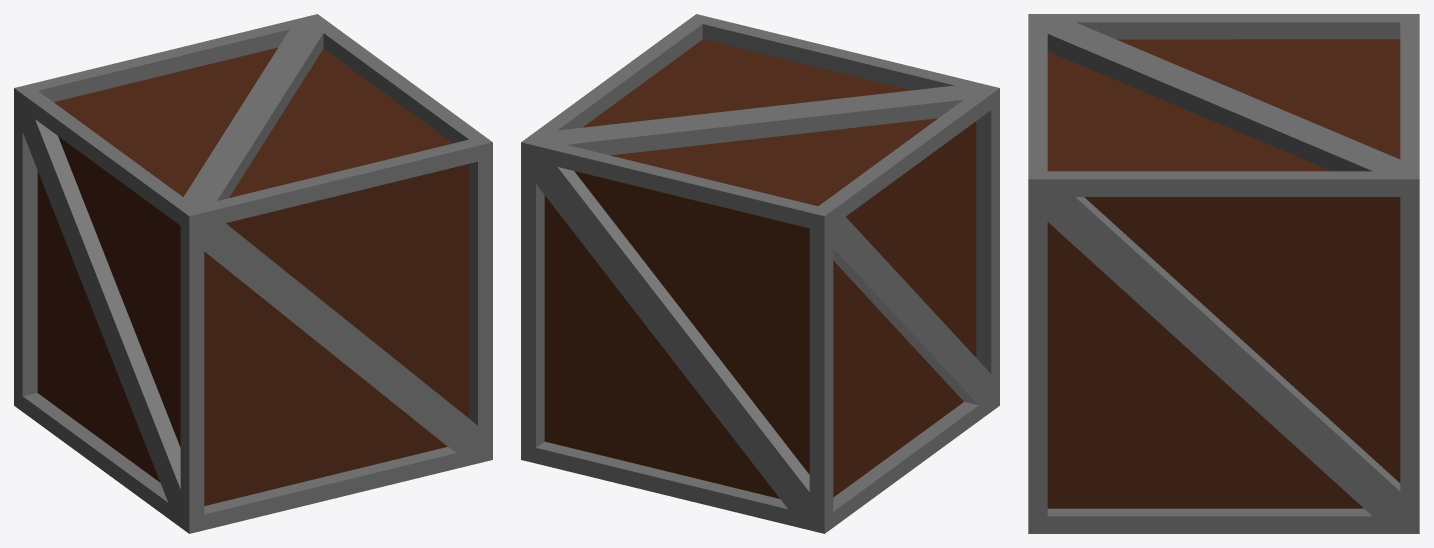
The picture shows the model from 3 angles, left to right: view 1: azimuth 30°, elevation 25°; view 2: azimuth 150°, elevation 25°; view 3: azimuth 270°, elevation 25°; orthographic projection. The views are drawn at different scales.
Visible parts, largest first — view 1: Box1; view 2: Box1; view 3: Box1.
Part boxes in pixels (box(x1,y1,x2,y2)): Box1: box(14, 14, 492, 533); Box1: box(521, 14, 999, 533); Box1: box(1028, 14, 1419, 533).
Size of the model in its own units: 100 by 100 by 100.
